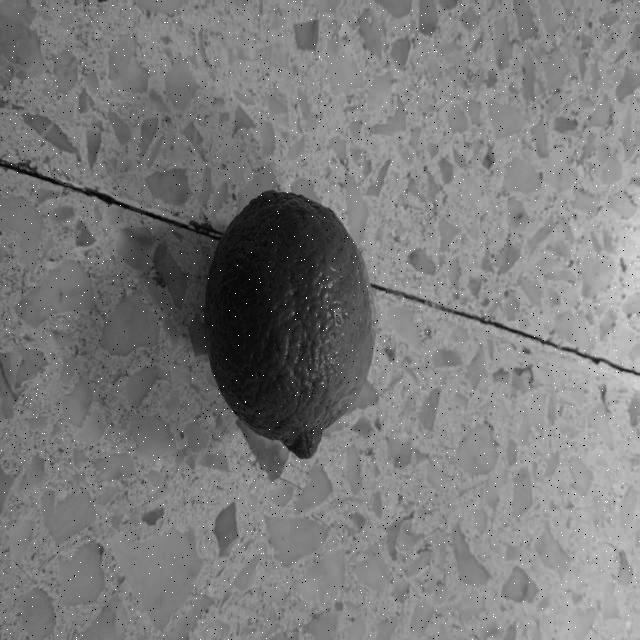Lemon: (200, 185, 382, 470)
